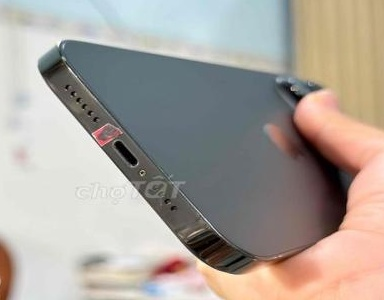scratch: (153, 192, 172, 209)
